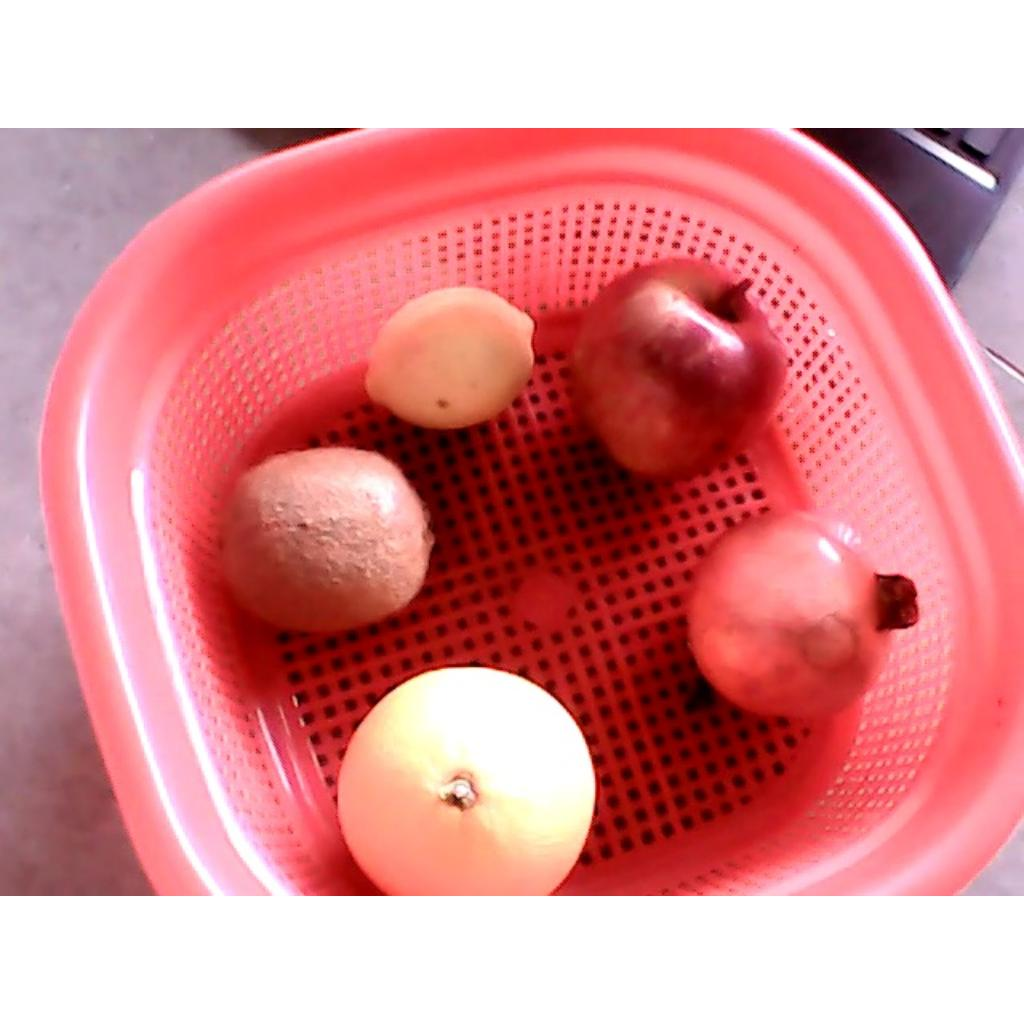apple: (564, 256, 789, 480)
kiwi: (219, 447, 432, 632)
lemon: (366, 286, 537, 429)
orange: (337, 667, 595, 894)
pomegranate: (687, 510, 921, 720)
